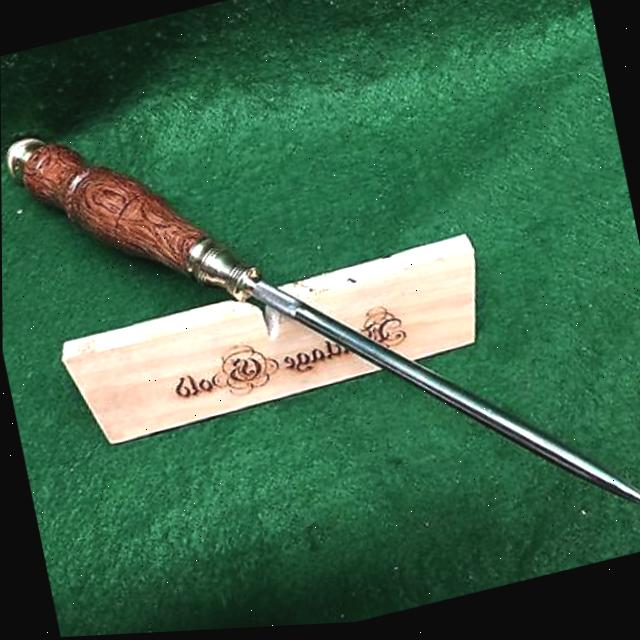ice pick: (0, 9, 640, 640)
